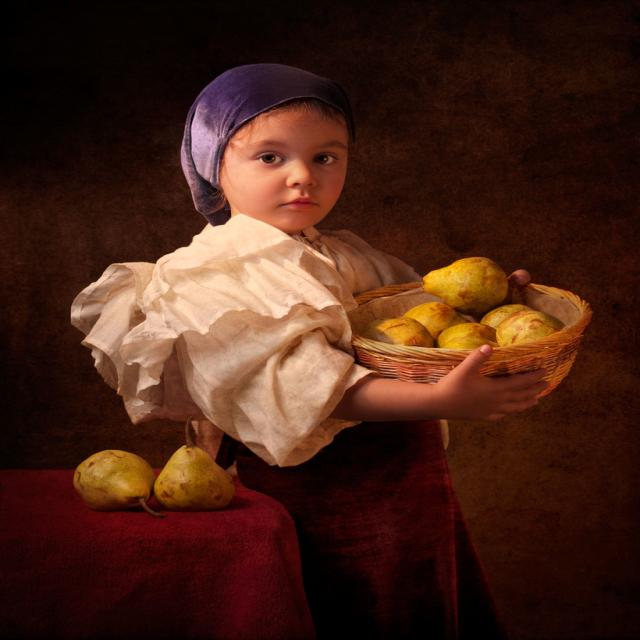pear: (363, 254, 553, 351), (153, 446, 235, 510), (72, 448, 154, 509)
